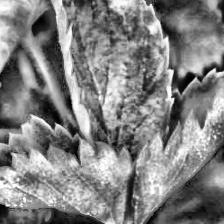Powdery Mildew Leaf: (42, 0, 176, 161), (130, 58, 224, 224), (0, 112, 135, 224), (0, 0, 51, 100)
